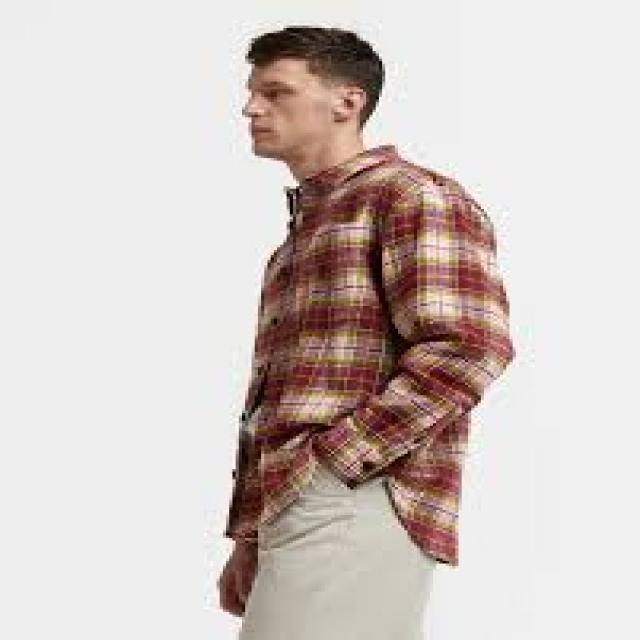plaid: (217, 164, 526, 566)
